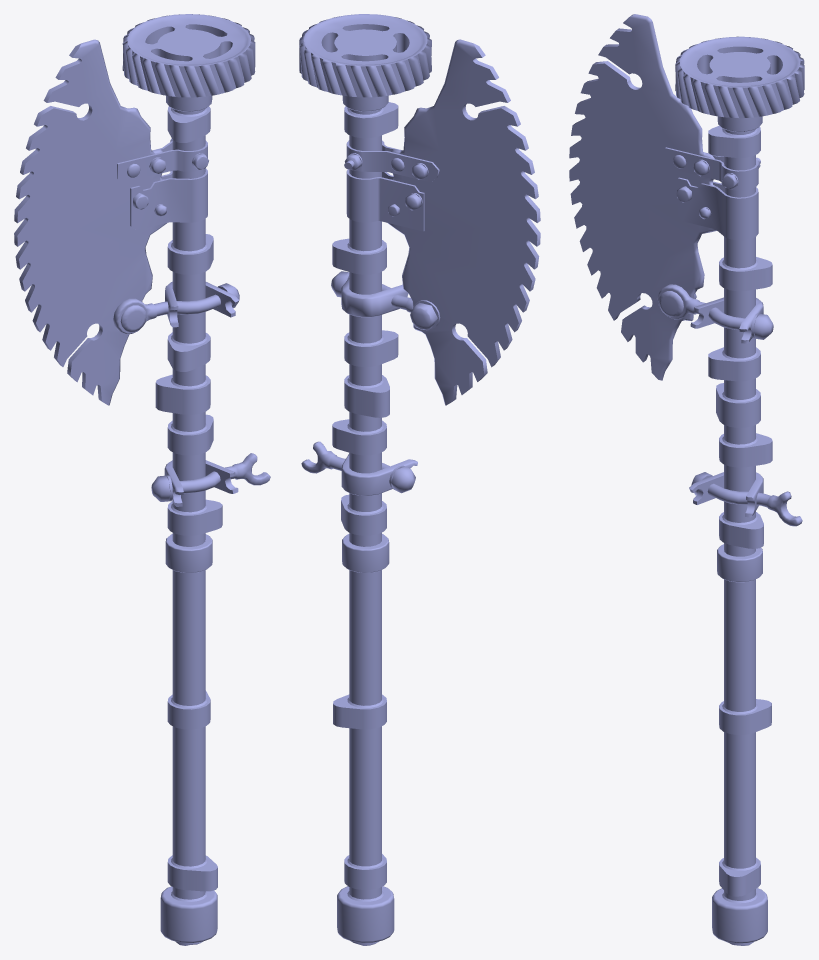
The model's file is SM_Hero_Weapon_A.fbx.
3 views of the same model, side by side, from view 1: azimuth 30°, elevation 25°; view 2: azimuth 150°, elevation 25°; view 3: azimuth 330°, elevation 25° (orthographic). The views are drawn at different scales.
Visible parts, largest first — view 1: SM_Hero_Weapon_A; view 2: SM_Hero_Weapon_A; view 3: SM_Hero_Weapon_A.
Part boxes in pixels (box(x1,y1,x2,y2)): SM_Hero_Weapon_A: box(14, 14, 270, 945); SM_Hero_Weapon_A: box(299, 14, 540, 945); SM_Hero_Weapon_A: box(569, 14, 804, 945).
Size of the model in its own units: 25.58 by 92.04 by 11.98.
